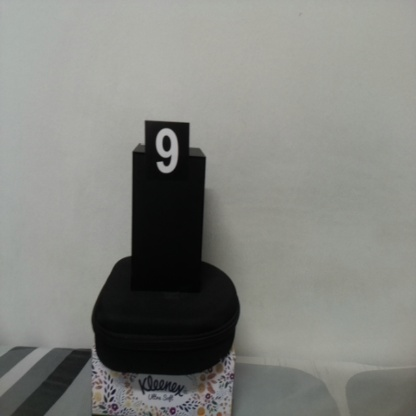id_9: (144, 122, 190, 187)
